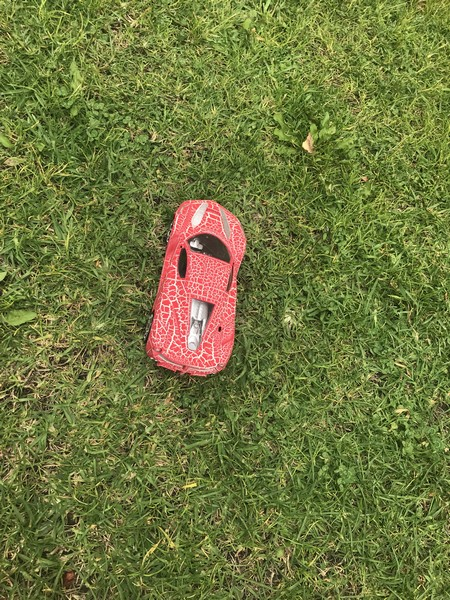RC: (144, 196, 247, 379)
